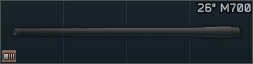Remington M700 7.62x51 26 inch stainless steel barrel: (0, 0, 253, 64)
